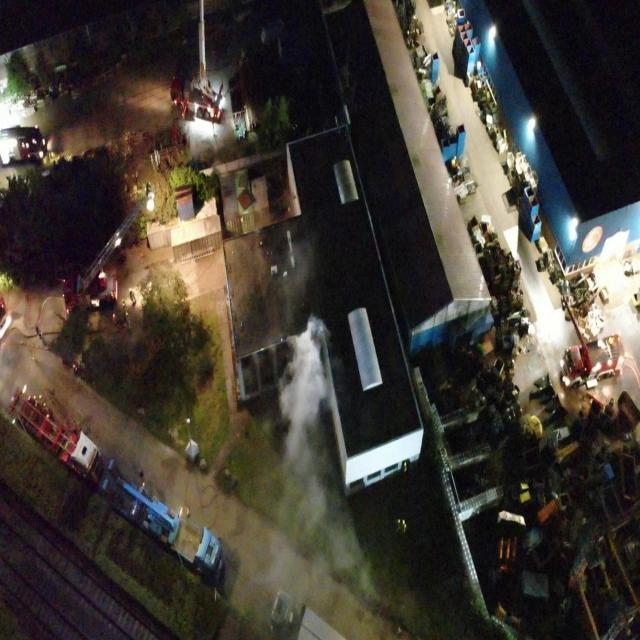Smoke: (248, 312, 370, 621), (262, 238, 314, 340)
